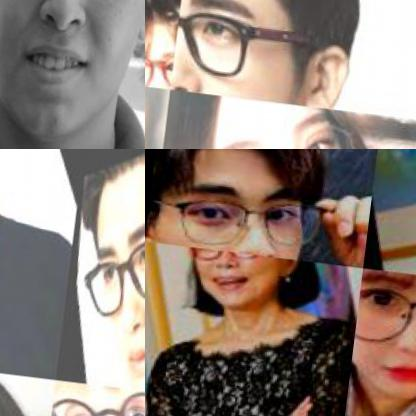Glasses: (145, 158, 340, 263), (170, 0, 311, 101), (65, 186, 144, 348), (191, 94, 368, 148), (349, 268, 415, 396), (45, 380, 144, 415), (180, 246, 286, 278), (145, 18, 177, 88)
